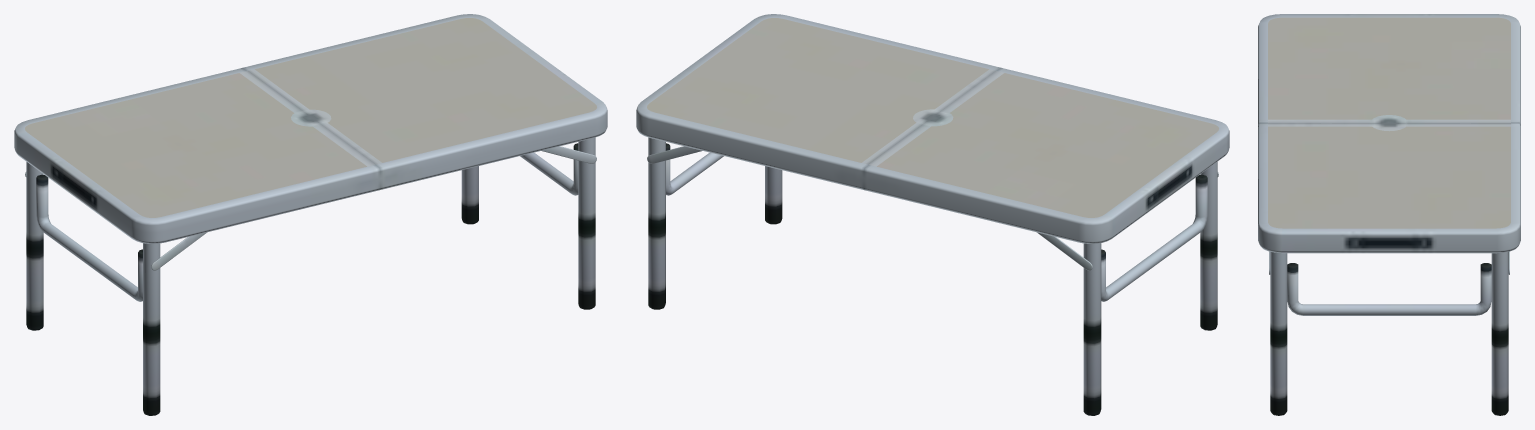
The picture shows the model from 3 angles, left to right: view 1: azimuth 30°, elevation 25°; view 2: azimuth 150°, elevation 25°; view 3: azimuth 270°, elevation 25°; orthographic projection. The views are drawn at different scales.
Bounding box in the file's own units: 17.91 × 7.2 × 9.07.
Materials: 2 (2 with a texture image).
